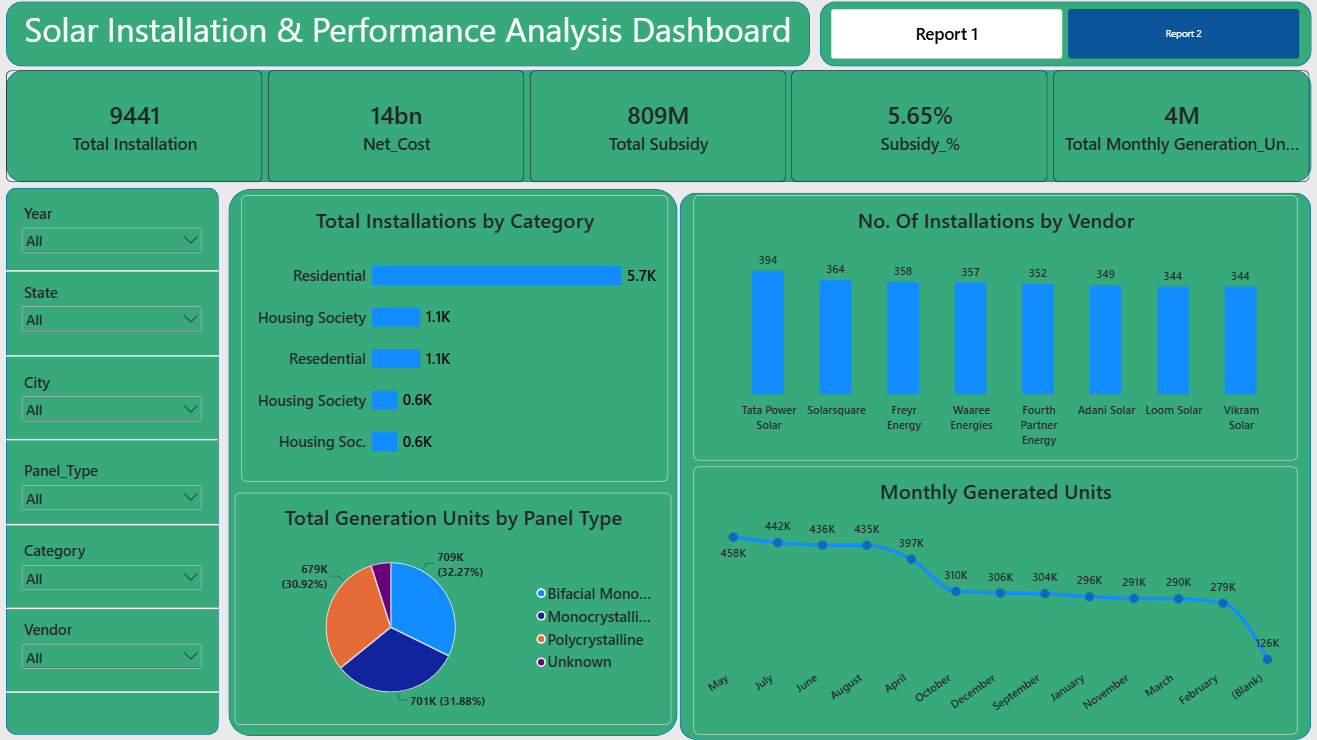

What the dashboard file says about the page in this screenshot:
{"tool":"powerbi","page":{"name":"Report 2","canvas":[1920,1080],"ordinal":1},"visuals":[{"type":"shape","box":[990,288,914,792],"z":0},{"type":"shape","box":[14,10,1164,94],"z":1000},{"type":"textbox","box":[14,18,1164,86],"z":2000},{"type":"shape","box":[1192,10,712,94],"z":3000},{"type":"shape","box":[14,110,1890,162],"z":4000},{"type":"cardVisual","fields":{"Data":["Count(Clean_Solar.Installation_Id)","Clean_Solar.Net_Cost","Clean_Solar.Total_Subsidies","Clean_Solar.Subsidy_%","Sum(Clean_Solar.Monthly_Generation_Units)"]},"box":[14,110,1890,162],"z":5000},{"type":"shape","box":[14,280,308,792],"z":6000},{"type":"shape","box":[336,282,650,792],"z":7000},{"type":"pieChart","title":"Total Generation Units by Panel Type","fields":{"Category":["Clean_Solar.Panel_Type"],"Y":["Clean_Solar.Total_Generation_Units"]},"box":[346,722,632,336],"z":8000},{"type":"columnChart","title":"No. Of Installations by Vendor","fields":{"Category":["Clean_Solar.Vendor"],"Y":["Clean_Solar.Total_Installation"]},"box":[1010,292,874,384],"z":9000},{"type":"clusteredBarChart","title":"Total Installations by Category","fields":{"Category":["Clean_Solar.Category"],"Y":["Clean_Solar.Total_Installation"]},"box":[354,292,618,414],"z":10000},{"type":"lineChart","title":"Monthly Generated Units","fields":{"Category":["Clean_Solar.Installation_Date.Variation.Date Hierarchy.Month"],"Y":["Sum(Clean_Solar.Monthly_Generation_Units)"]},"box":[1010,684,874,388],"z":11000},{"type":"slicer","fields":{"Values":["Clean_Solar.Year"]},"box":[32.6,302.2,270,84],"z":12000},{"type":"slicer","fields":{"Values":["Clean_Solar.State"]},"box":[32.6,416.2,270,84],"z":13000},{"type":"slicer","fields":{"Values":["Clean_Solar.City"]},"box":[32.6,546.5,270,84],"z":14000},{"type":"slicer","fields":{"Values":["Clean_Solar.Panel_Type"]},"box":[32.6,675,270,84],"z":15000},{"type":"shape","box":[14.5,385.5,307.6,30.8],"z":16000},{"type":"shape","box":[14.5,508.5,307.6,30.8],"z":17000},{"type":"shape","box":[12.7,629.8,307.6,30.8],"z":18000},{"type":"shape","box":[14.5,752.8,307.6,30.8],"z":19000},{"type":"shape","box":[14.5,874.1,307.6,30.8],"z":20000},{"type":"slicer","fields":{"Values":["Clean_Solar.Category"]},"box":[32.6,790.8,270,84],"z":21000},{"type":"shape","box":[14.5,995.3,307.6,30.8],"z":22000},{"type":"slicer","fields":{"Values":["Clean_Solar.Vendor"]},"box":[32.6,904.8,270,84],"z":23000},{"type":"pageNavigator","box":[1208,22,678,72],"z":23001}]}

Visuals, with their boxes in screenshot pixels (x1, y1, x2, y2), scaled from the page's 1920x1080 canvas onto the 1317x740 screenshot:
shape: <bbox>679, 197, 1306, 739</bbox>
shape: <bbox>10, 7, 808, 71</bbox>
textbox: <bbox>10, 12, 808, 71</bbox>
shape: <bbox>818, 7, 1306, 71</bbox>
shape: <bbox>10, 75, 1306, 186</bbox>
cardVisual - Count(Clean_Solar.Installation_Id) x Clean_Solar.Net_Cost: <bbox>10, 75, 1306, 186</bbox>
shape: <bbox>10, 192, 221, 735</bbox>
shape: <bbox>230, 193, 676, 736</bbox>
"Total Generation Units by Panel Type" pieChart: <bbox>237, 495, 671, 725</bbox>
"No. Of Installations by Vendor" columnChart: <bbox>693, 200, 1292, 463</bbox>
"Total Installations by Category" clusteredBarChart: <bbox>243, 200, 667, 484</bbox>
"Monthly Generated Units" lineChart: <bbox>693, 469, 1292, 735</bbox>
slicer - Clean_Solar.Year: <bbox>22, 207, 208, 265</bbox>
slicer - Clean_Solar.State: <bbox>22, 285, 208, 343</bbox>
slicer - Clean_Solar.City: <bbox>22, 374, 208, 432</bbox>
slicer - Clean_Solar.Panel_Type: <bbox>22, 463, 208, 520</bbox>
shape: <bbox>10, 264, 221, 285</bbox>
shape: <bbox>10, 348, 221, 370</bbox>
shape: <bbox>9, 432, 220, 453</bbox>
shape: <bbox>10, 516, 221, 537</bbox>
shape: <bbox>10, 599, 221, 620</bbox>
slicer - Clean_Solar.Category: <bbox>22, 542, 208, 599</bbox>
shape: <bbox>10, 682, 221, 703</bbox>
slicer - Clean_Solar.Vendor: <bbox>22, 620, 208, 678</bbox>
pageNavigator: <bbox>829, 15, 1294, 64</bbox>
